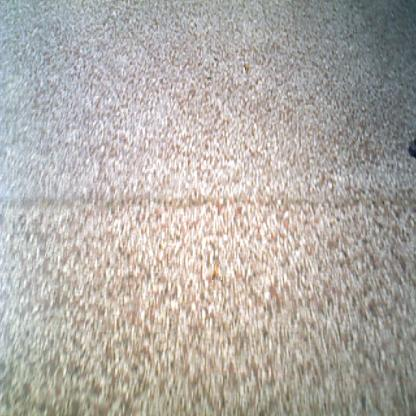dirty: (212, 264, 222, 280)
